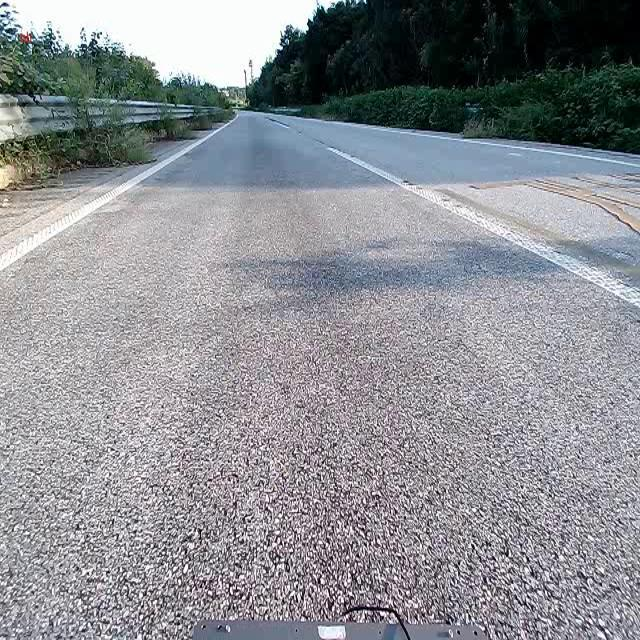Lane: (324, 136, 640, 304), (326, 145, 639, 308), (0, 112, 242, 270), (0, 116, 238, 260)
